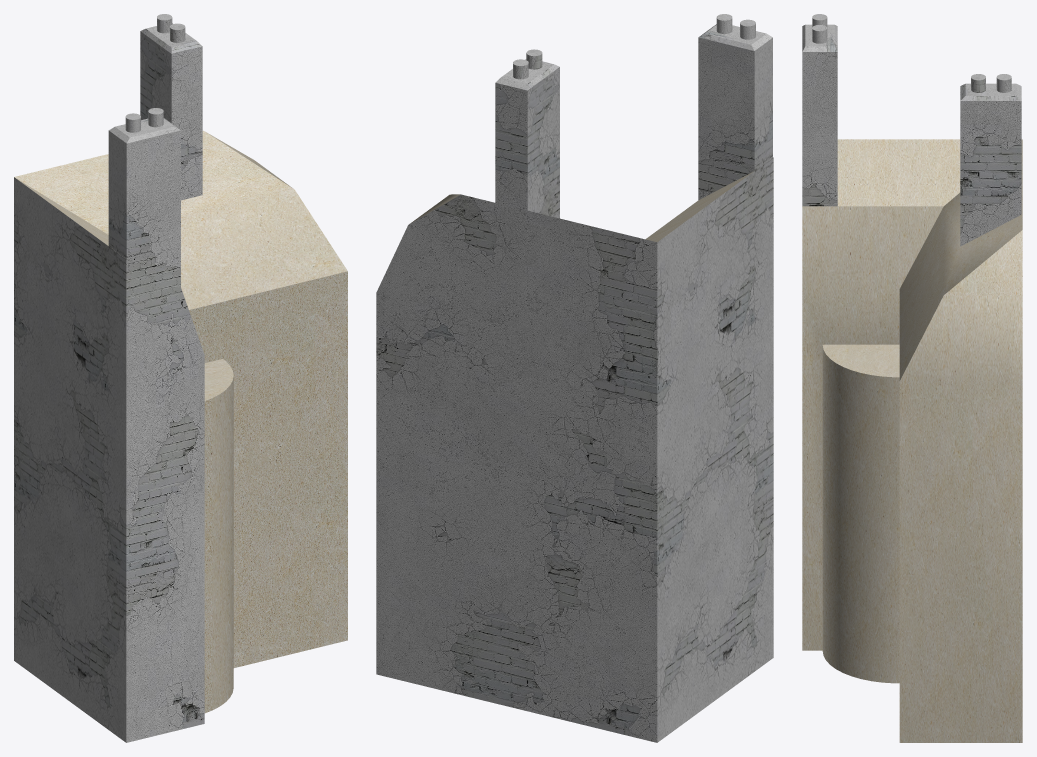
Rendered from salon_de_the.glb.
3 renders of one model, left to right at view 1: azimuth 30°, elevation 25°; view 2: azimuth 150°, elevation 25°; view 3: azimuth 270°, elevation 25°, orthographic. The views are drawn at different scales.
Parts seen in each view (by area): view 1: salon_de_the; view 2: salon_de_the; view 3: salon_de_the.
Boxes of the visible parts, left/top/right/bottom form: salon_de_the: left=14, top=14, right=347, bottom=742; salon_de_the: left=376, top=14, right=773, bottom=742; salon_de_the: left=802, top=14, right=1022, bottom=742.
Bounding box in the file's own units: 10 × 21.7 × 7.17.
Materials: 2 (2 with a texture image).
